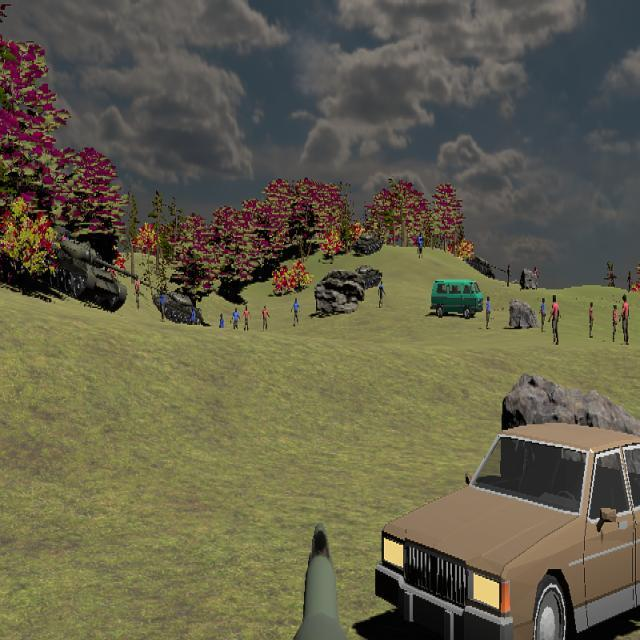Human: (549, 295, 561, 346), (621, 294, 630, 346)
Tank: (45, 237, 138, 313), (162, 291, 203, 326), (351, 230, 383, 256)
car: (373, 420, 639, 639), (430, 278, 484, 319)
